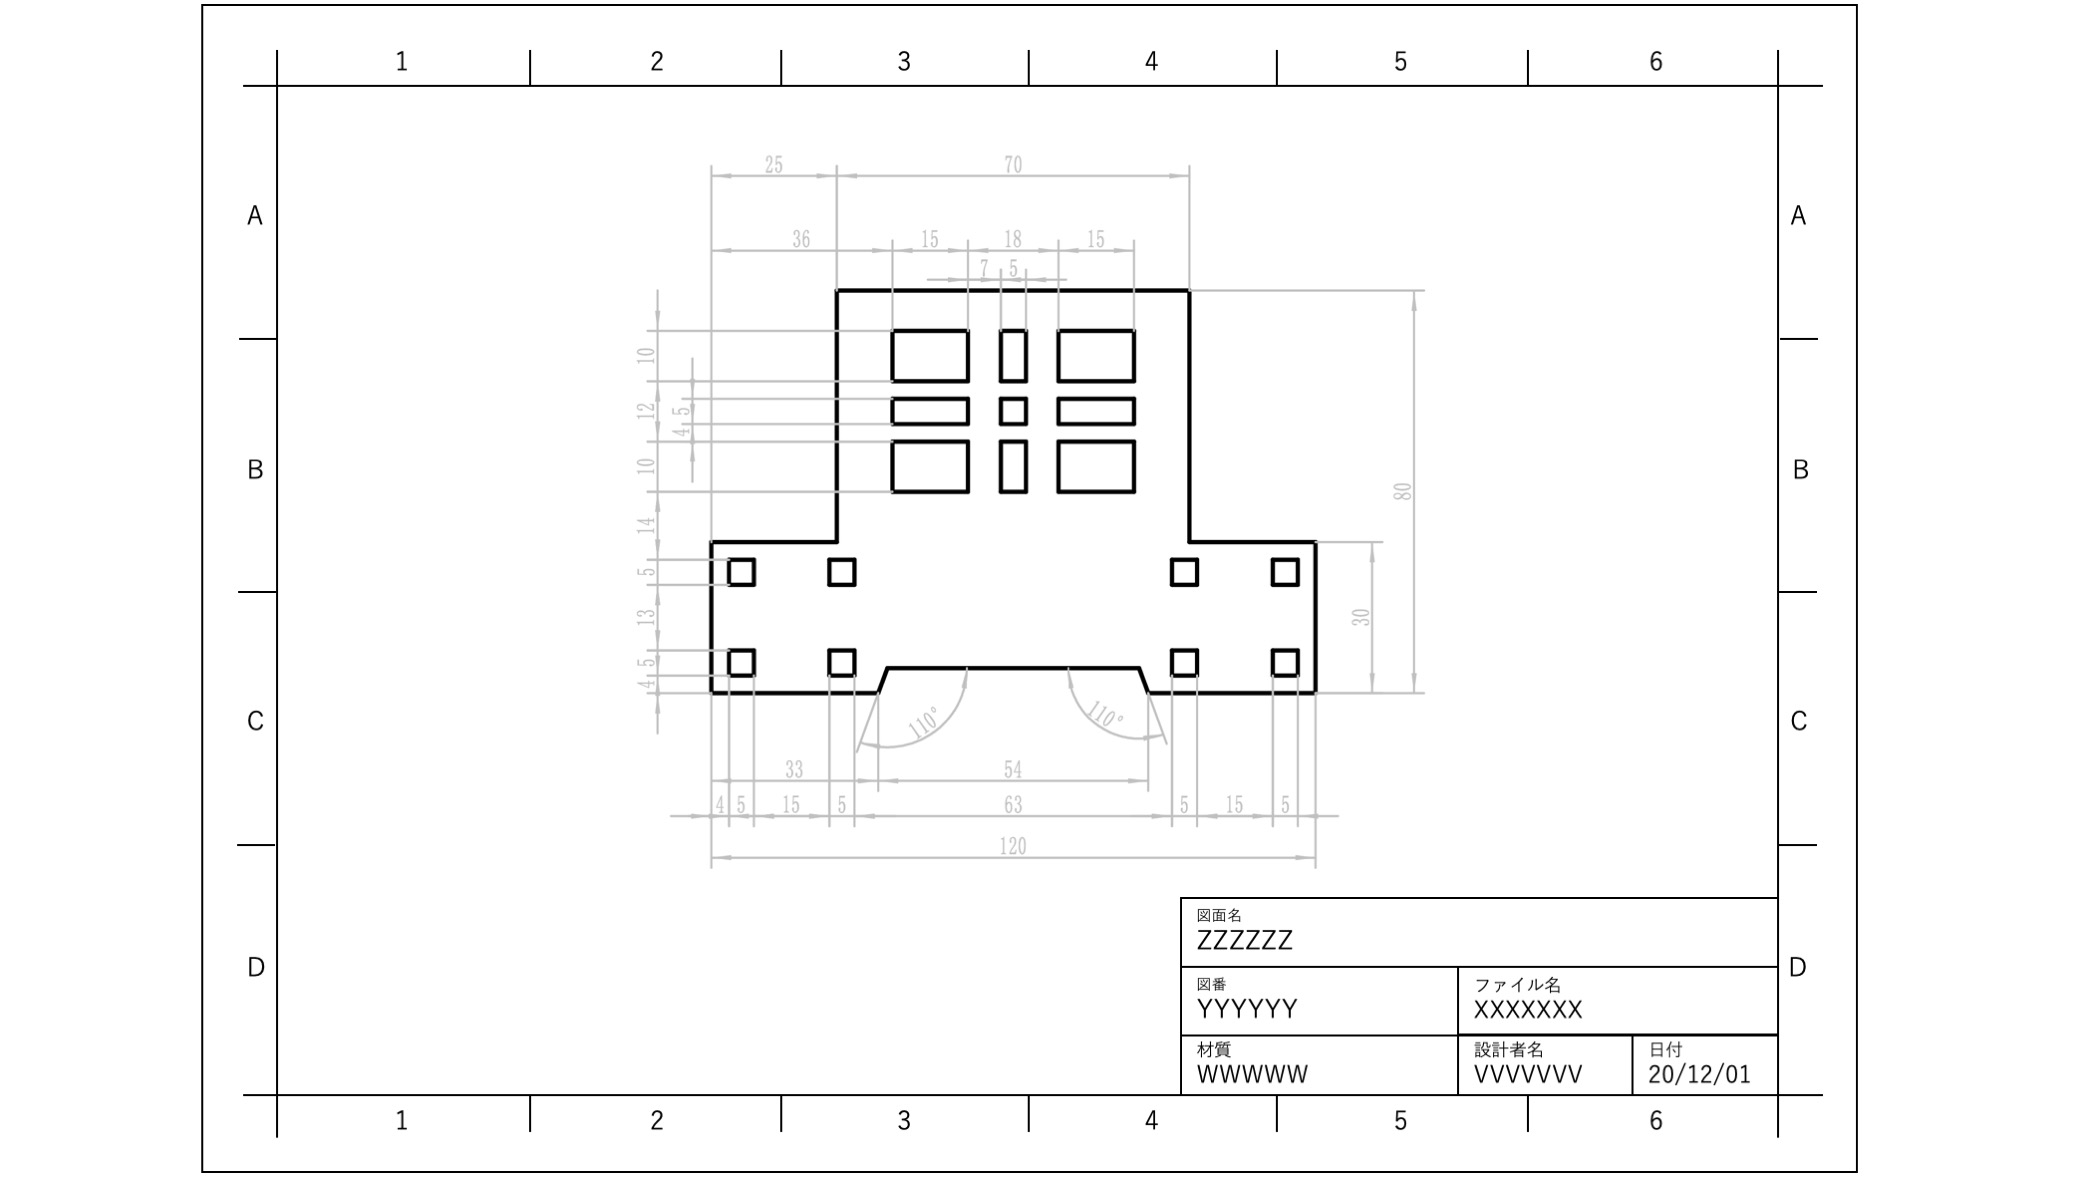rectangle: (884, 319, 975, 384), (1051, 323, 1148, 384), (1051, 433, 1141, 497), (886, 434, 972, 497), (1046, 391, 1150, 435), (884, 394, 975, 428), (992, 314, 1036, 386), (994, 433, 1033, 499), (1262, 636, 1304, 682), (821, 643, 865, 684), (1165, 549, 1206, 593), (989, 391, 1036, 428), (1167, 637, 1204, 682), (822, 549, 861, 590), (723, 642, 762, 682), (1266, 552, 1304, 591), (724, 549, 759, 588)
